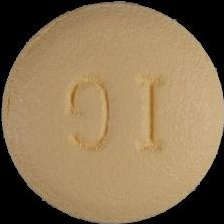63187-228: (0, 0, 224, 224)
